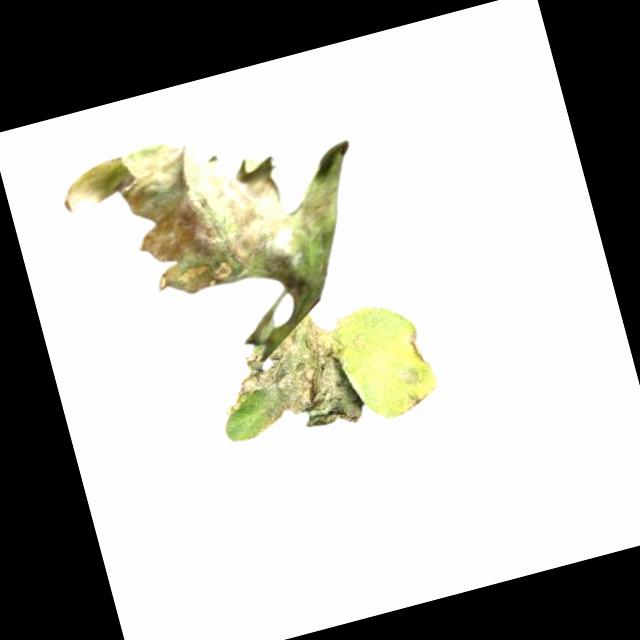Late_blight: (54, 94, 386, 360), (210, 303, 370, 453), (400, 323, 427, 365), (390, 361, 421, 389)
